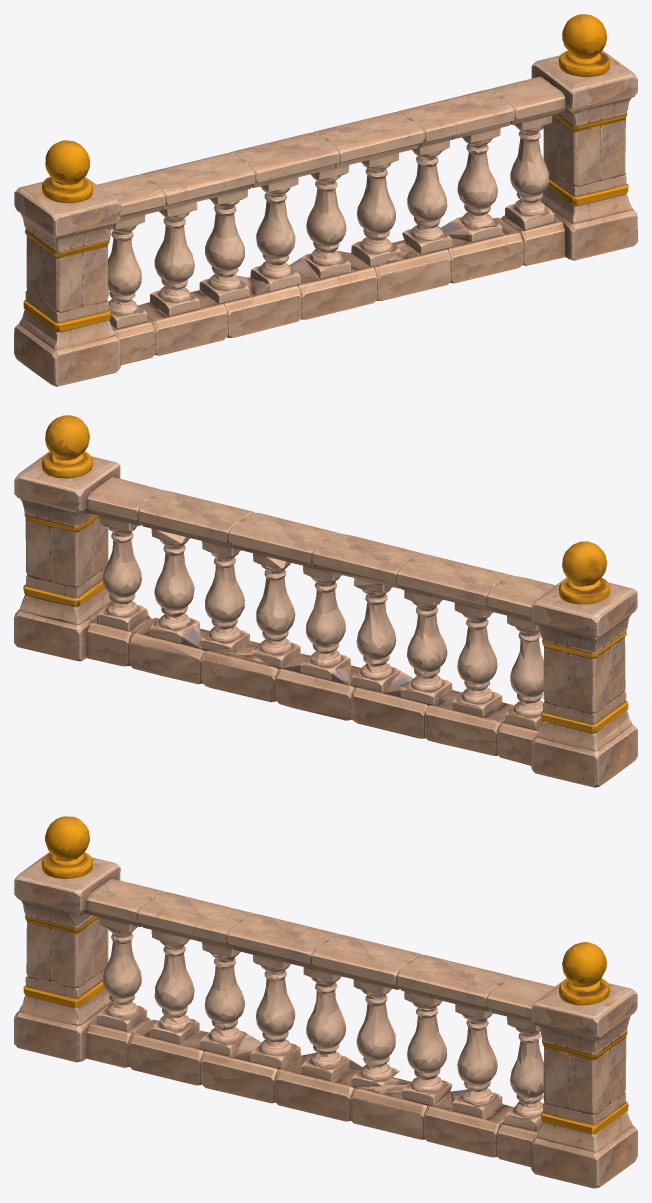
Rendered from iso-balustrade.glb.
The picture shows the model from 3 angles, top to bottom: view 1: azimuth 30°, elevation 25°; view 2: azimuth 150°, elevation 25°; view 3: azimuth 330°, elevation 25°; orthographic projection.
Visible parts, largest first — view 1: Mesh_0; view 2: Mesh_0; view 3: Mesh_0.
Boxes of the visible parts, x1,y1,x2,y2 form: Mesh_0: [14, 14, 637, 386]; Mesh_0: [14, 415, 637, 787]; Mesh_0: [14, 816, 637, 1188].
Size of the model in its own units: 1.9 by 0.6941 by 0.2327.
1 material, 1 textured.
